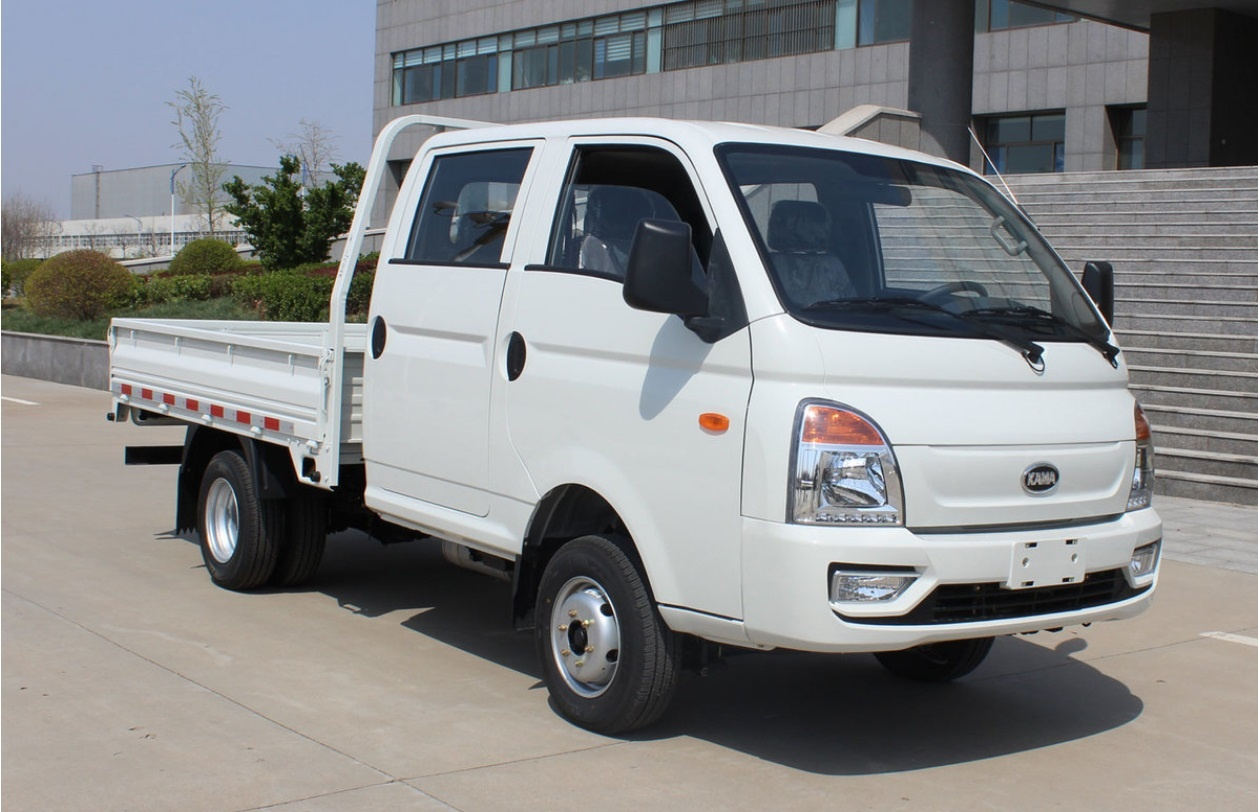truck: (111, 103, 1145, 720)
